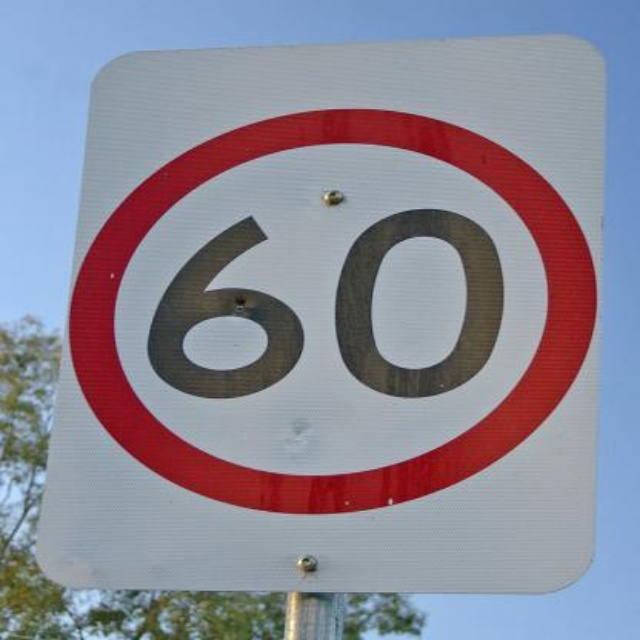Tốc độ tối đa cho phép 80km/h: (93, 109, 587, 505)
